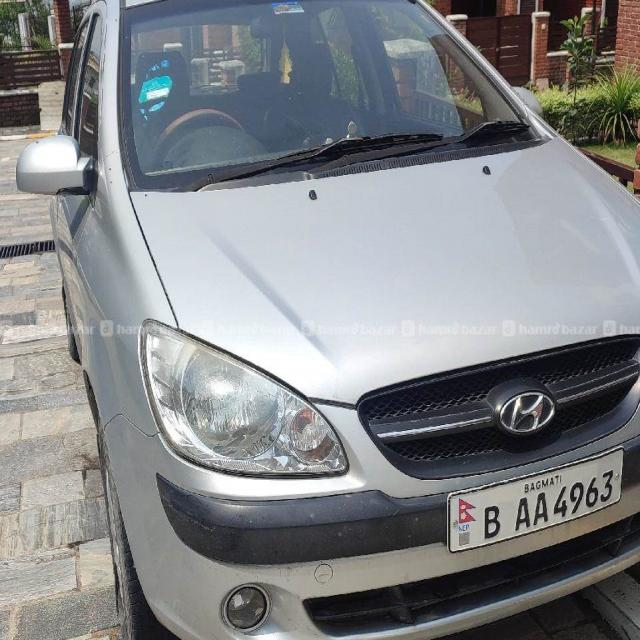License-plate: (440, 448, 640, 552)
